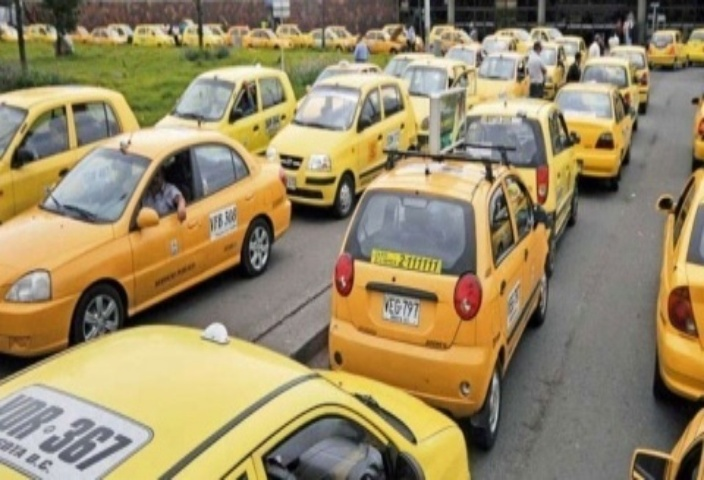taxi: (1, 321, 479, 480), (1, 125, 297, 337), (351, 144, 568, 409), (269, 71, 429, 214), (438, 99, 599, 230), (138, 56, 288, 162), (549, 84, 636, 189), (1, 79, 97, 170), (407, 58, 477, 131), (577, 56, 643, 128), (513, 39, 571, 103), (608, 39, 659, 110), (467, 55, 529, 109), (385, 47, 438, 96), (651, 29, 687, 70)
